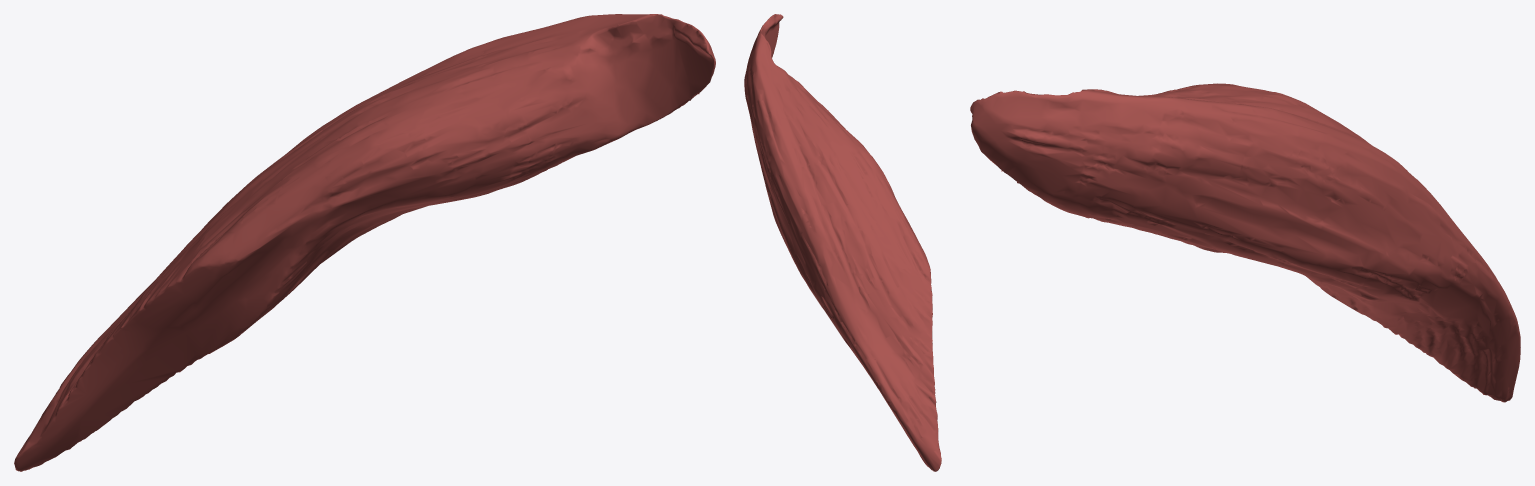
The model's file is FMA32554.glb.
3 renders of one model, left to right at view 1: azimuth 30°, elevation 25°; view 2: azimuth 150°, elevation 25°; view 3: azimuth 270°, elevation 25°, orthographic. The views are drawn at different scales.
Visible parts, largest first — view 1: FMA32554; view 2: FMA32554; view 3: FMA32554.
Part boxes in pixels (left/top/right/bottom): FMA32554: left=14, top=14, right=715, bottom=471; FMA32554: left=744, top=14, right=941, bottom=471; FMA32554: left=970, top=83, right=1520, bottom=402.
Bounding box in the file's own units: 0.0929 × 0.0865 × 0.0734.
